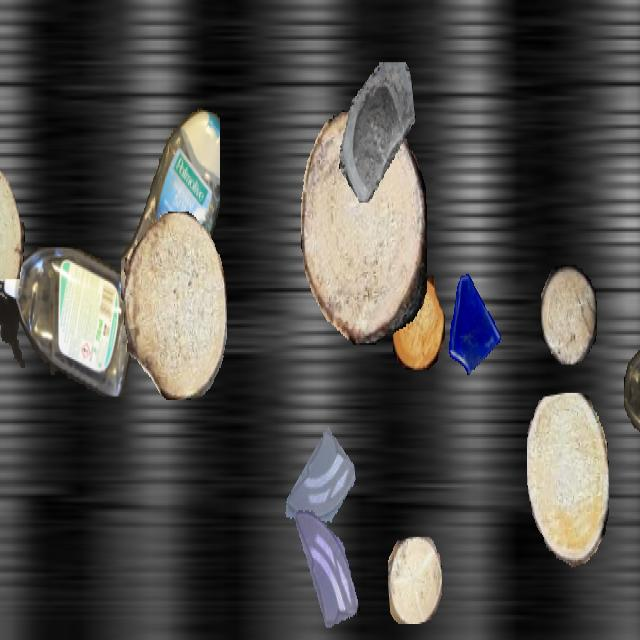glass: (337, 62, 415, 201), (288, 507, 362, 638), (283, 423, 355, 551), (443, 269, 503, 375)
plastic: (121, 102, 219, 340), (0, 247, 138, 397), (624, 347, 640, 442)
wood: (301, 109, 427, 343), (124, 212, 226, 400), (527, 393, 609, 567), (541, 265, 597, 364), (392, 276, 444, 368), (388, 537, 442, 622), (0, 156, 24, 278)
